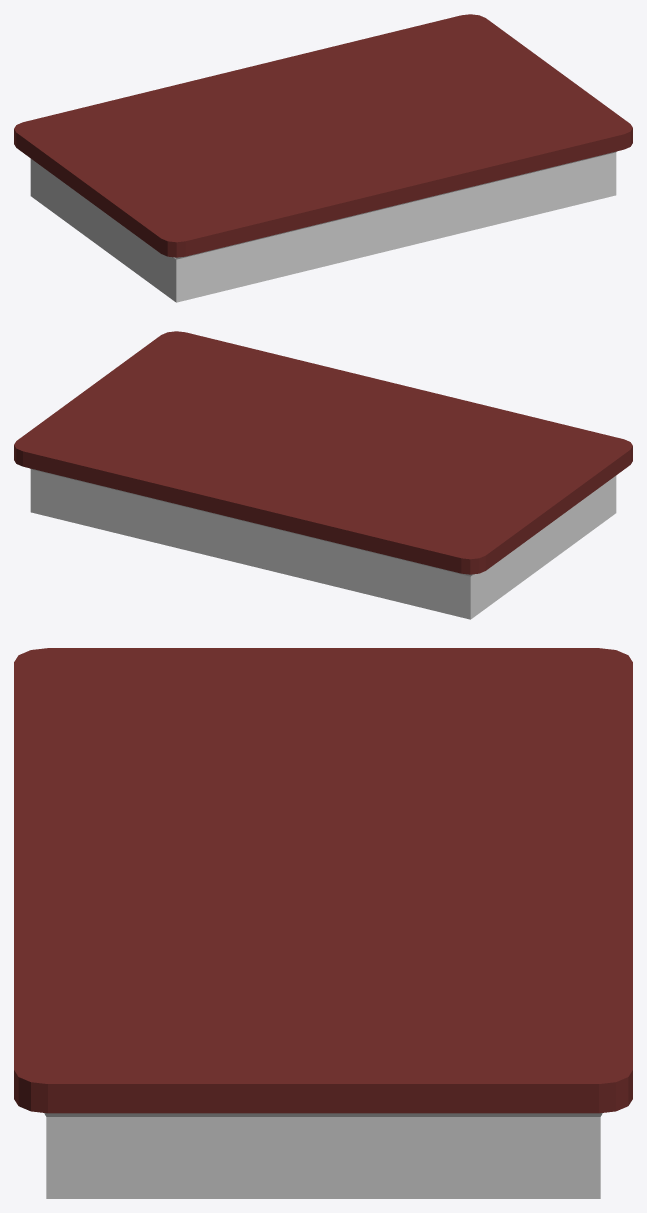
File: BubbleChamberTable.fbx
The picture shows the model from 3 angles, top to bottom: view 1: azimuth 30°, elevation 25°; view 2: azimuth 150°, elevation 25°; view 3: azimuth 270°, elevation 25°; orthographic projection. The views are drawn at different scales.
Visible parts, largest first — view 1: Cube.001; view 2: Cube.001; view 3: Cube.001.
Boxes of the visible parts, x1=… form: Cube.001: x1=14, y1=14, x2=632, y2=302; Cube.001: x1=14, y1=331, x2=632, y2=619; Cube.001: x1=14, y1=648, x2=632, y2=1198.
Size of the model in its own units: 500 by 68.68 by 300.
